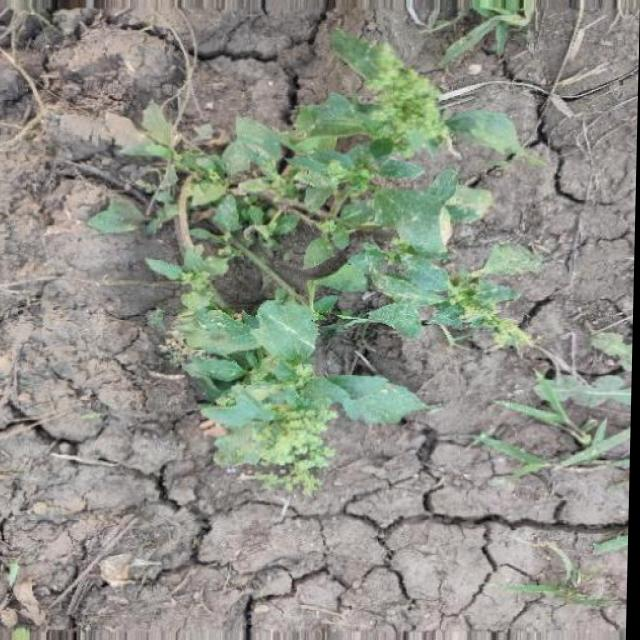weed: (141, 88, 517, 494)
